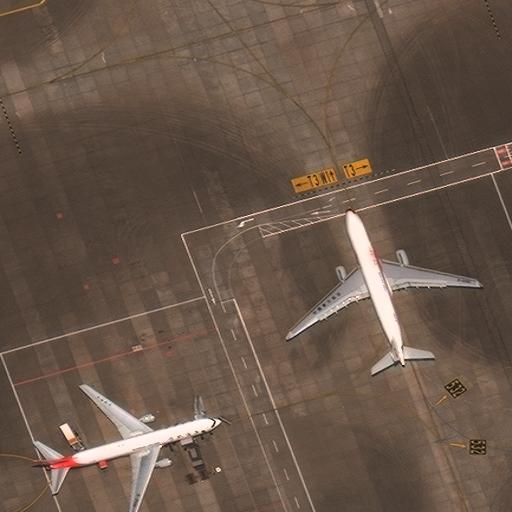Large Civil Transport: (287, 208, 478, 366), (45, 383, 221, 511)
